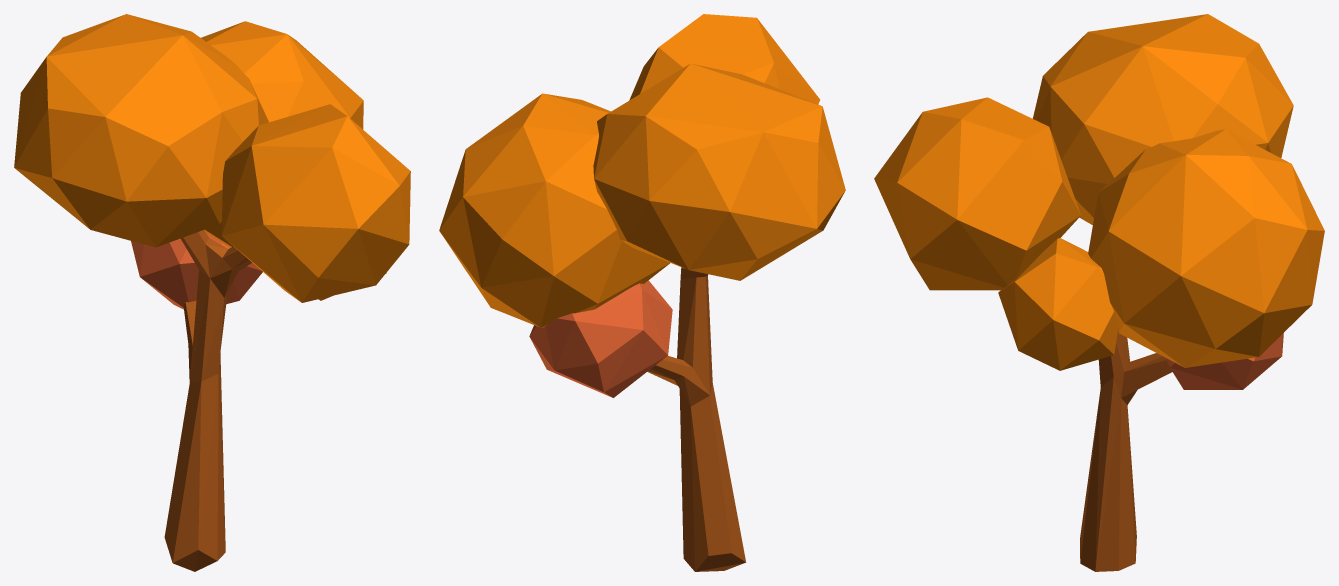
The model's file is fall island TREE 02.fbx.
3 renders of one model, left to right at view 1: azimuth 30°, elevation 25°; view 2: azimuth 150°, elevation 25°; view 3: azimuth 270°, elevation 25°, orthographic. The views are drawn at different scales.
Parts seen in each view (by area): view 1: tree02; view 2: tree02; view 3: tree02.
Part boxes in pixels (x1,y1,x2,y2): tree02: (14,14,410,571); tree02: (439,14,845,571); tree02: (874,14,1324,571).
Bounding box in the file's own units: 938 × 1338 × 1034.
